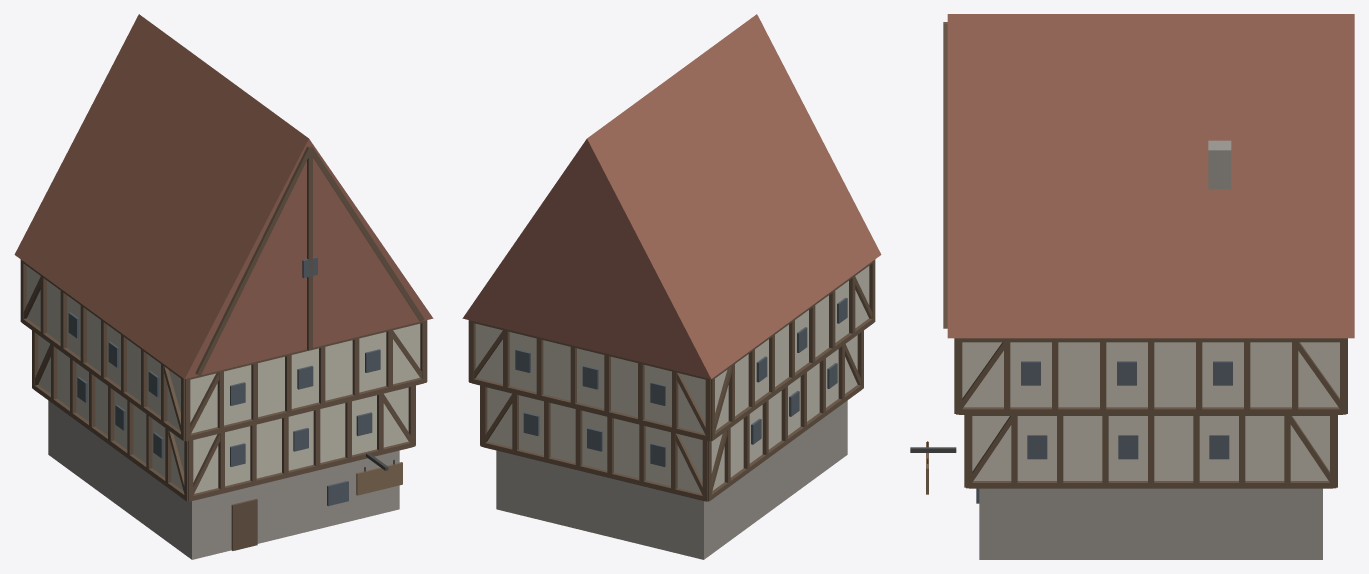
File: m_taverne.glb
3 views of the same model, side by side, from view 1: azimuth 30°, elevation 25°; view 2: azimuth 150°, elevation 25°; view 3: azimuth 270°, elevation 25° (orthographic). The views are drawn at different scales.
Parts seen in each view (by area): view 1: koerper; view 2: koerper; view 3: koerper.
Part boxes in pixels (box(x1,y1,x2,y2)): koerper: box(14, 14, 433, 559); koerper: box(462, 14, 881, 559); koerper: box(910, 14, 1354, 559).
Size of the model in its own units: 12 by 18.69 by 15.5.
